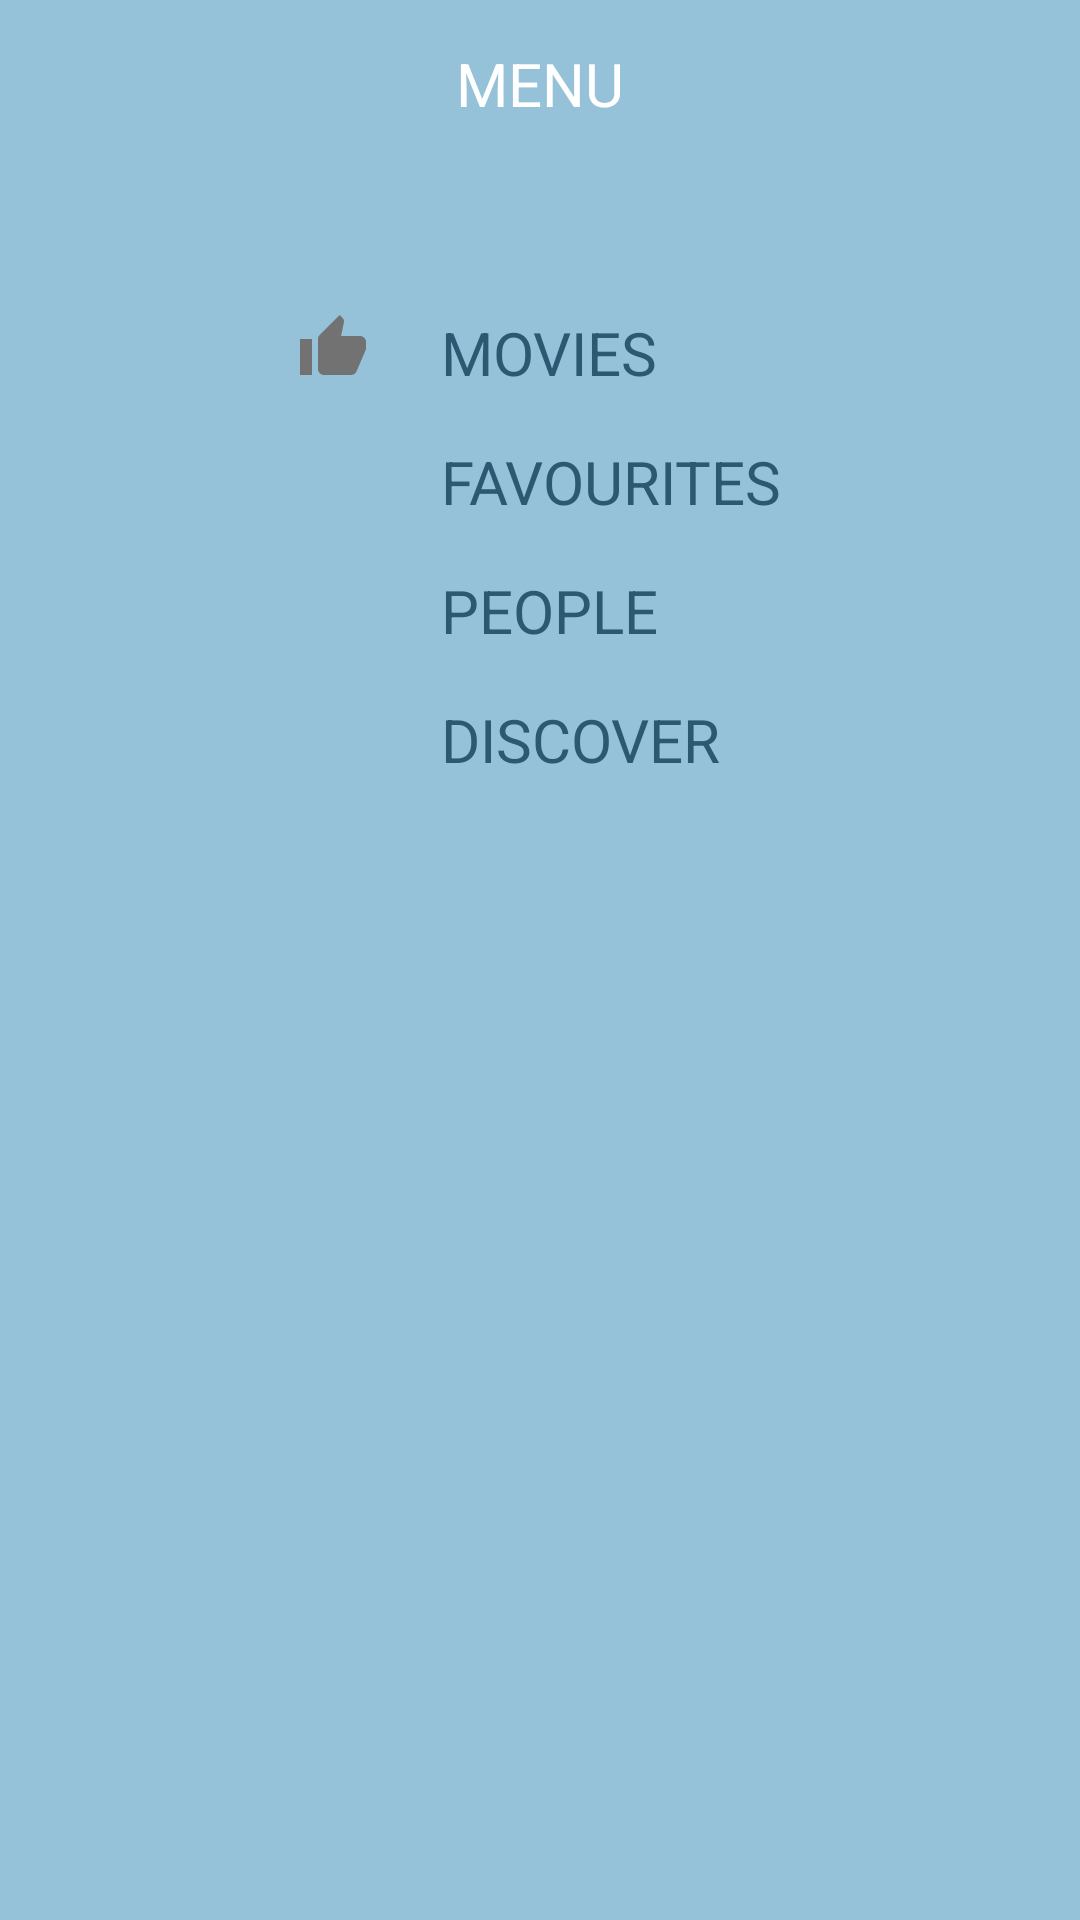

Named icons in this screenshot (1080x1920) and their bounding boxes, (x1, y1, x2, y2):
popular: (300, 315, 366, 375)
